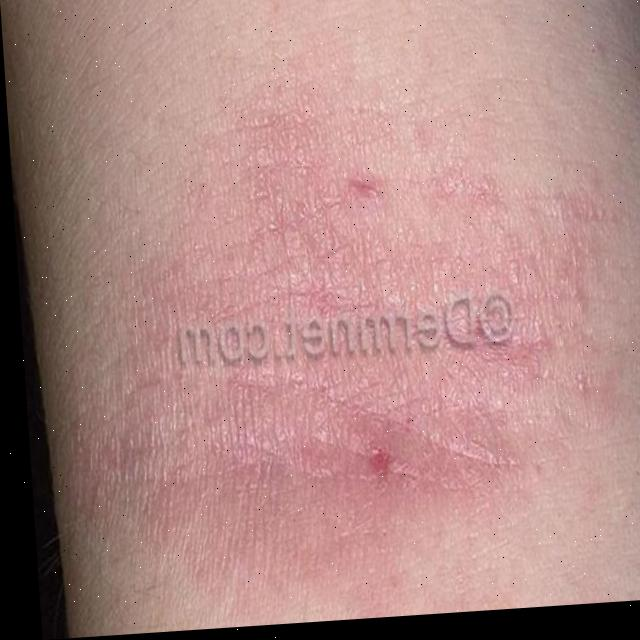Eczema: (101, 195, 523, 550)
